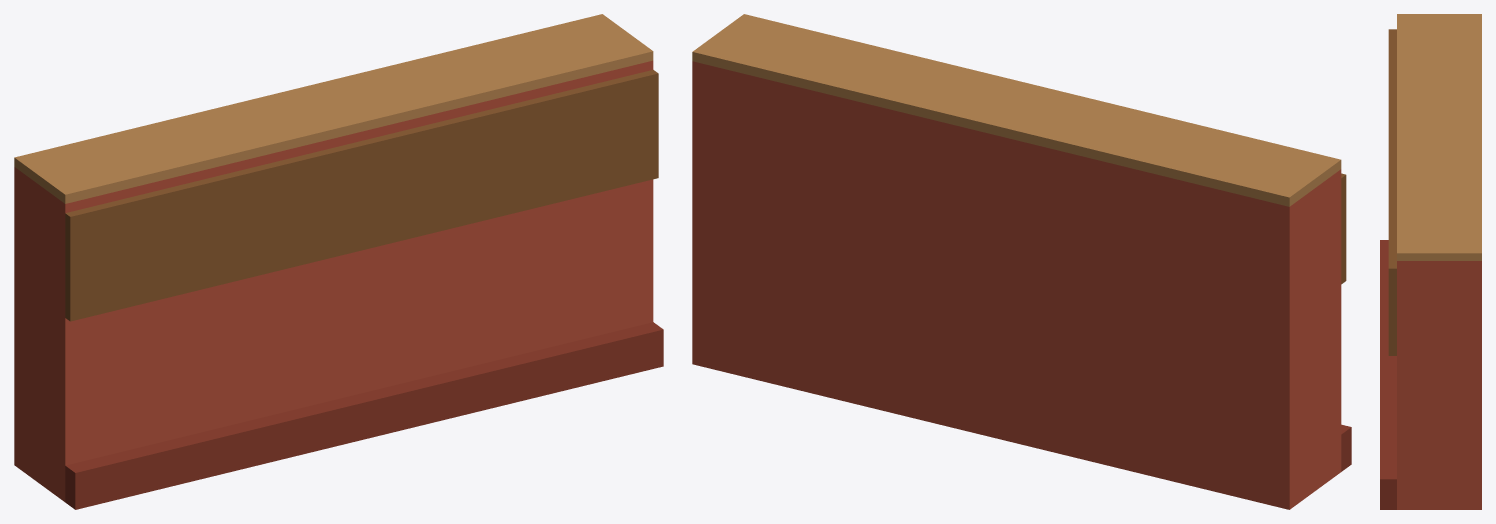
File: wall.glb
The picture shows the model from 3 angles, left to right: view 1: azimuth 30°, elevation 25°; view 2: azimuth 150°, elevation 25°; view 3: azimuth 270°, elevation 25°; orthographic projection. The views are drawn at different scales.
Visible parts, largest first — view 1: wall; view 2: wall; view 3: wall.
Part boxes in pixels (x1,y1,x2,y2): wall: (14, 14, 663, 509); wall: (692, 14, 1351, 509); wall: (1380, 14, 1481, 509).
Bounding box in the file's own units: 1 × 0.5 × 0.18.
Materials: 1 (1 with a texture image).
